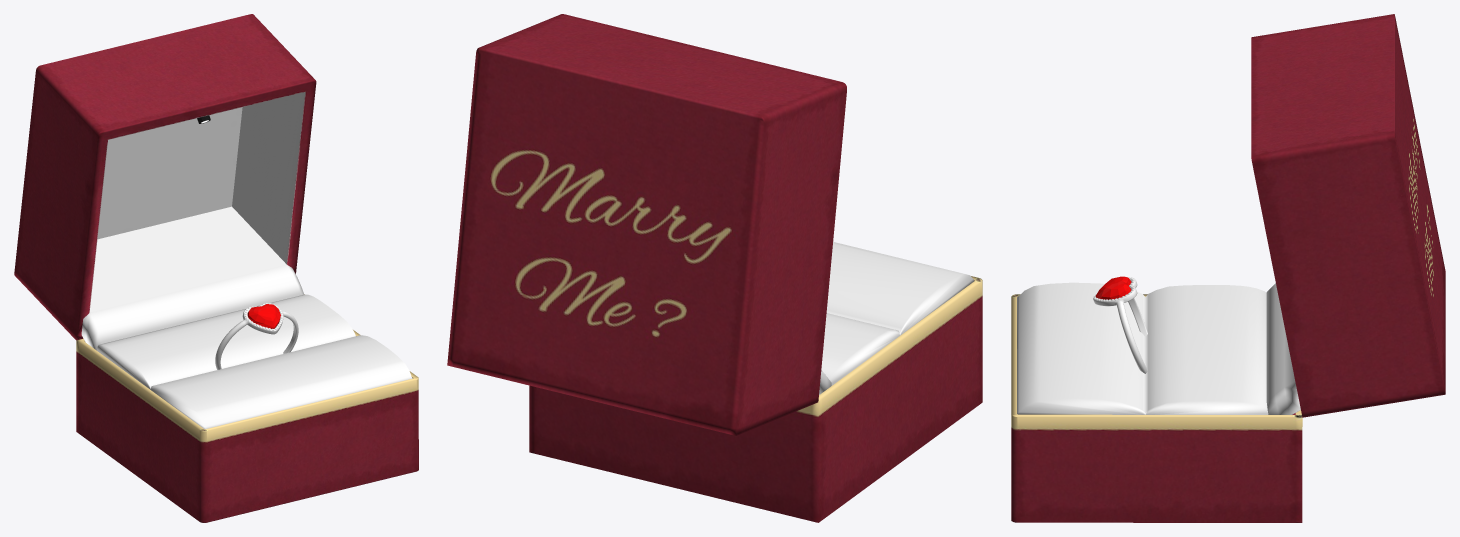
The model's file is ring_box.glb.
The picture shows the model from 3 angles, left to right: view 1: azimuth 30°, elevation 25°; view 2: azimuth 150°, elevation 25°; view 3: azimuth 270°, elevation 25°; orthographic projection. The views are drawn at different scales.
Parts seen in each view (by area): view 1: Box, Pillow, Ring_Heart, Diamond_Heart; view 2: Box, Pillow; view 3: Box, Pillow, Ring_Heart, Diamond_Heart.
Boxes of the visible parts, <box> form: Box: <box>14,14,418,522</box>; Pillow: <box>97,294,412,428</box>; Ring_Heart: <box>215,303,298,369</box>; Diamond_Heart: <box>247,304,280,328</box>; Box: <box>447,14,982,522</box>; Pillow: <box>821,242,973,385</box>; Box: <box>1011,14,1445,522</box>; Pillow: <box>1017,282,1268,414</box>; Ring_Heart: <box>1093,278,1147,373</box>; Diamond_Heart: <box>1095,276,1131,299</box>.
Bounding box in the file's own units: 50.45 × 74.17 × 75.31.
Materials: 6 (6 with a texture image).
